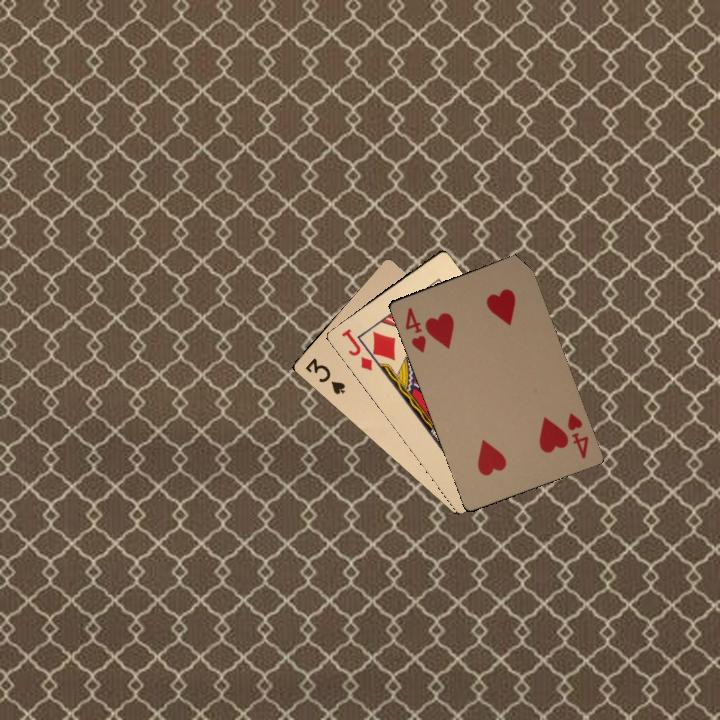3s: (301, 354, 348, 397)
4h: (401, 303, 429, 355), (563, 409, 591, 461)
Jd: (337, 325, 383, 373)
